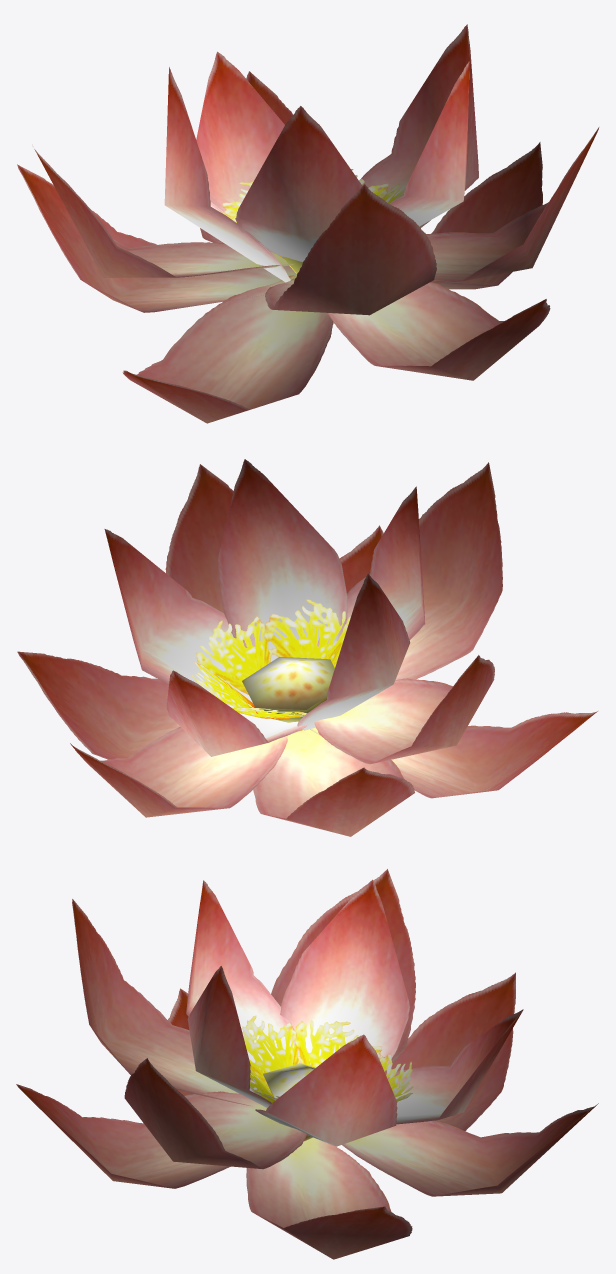
The model's file is ZTtree_gg_hehua01.FBX.
3 views of the same model, one above another, from view 1: azimuth 30°, elevation 25°; view 2: azimuth 150°, elevation 25°; view 3: azimuth 270°, elevation 25° (orthographic). The views are drawn at different scales.
Visible parts, largest first — view 1: ZTtree_gg_hehua01; view 2: ZTtree_gg_hehua01; view 3: ZTtree_gg_hehua01.
Boxes of the visible parts, x1,y1,x2,y2 form: ZTtree_gg_hehua01: [17, 24, 599, 423]; ZTtree_gg_hehua01: [17, 459, 597, 836]; ZTtree_gg_hehua01: [16, 869, 598, 1259].
Bounding box in the file's own units: 96.57 × 54.76 × 102.
Materials: 1 (1 with a texture image).
